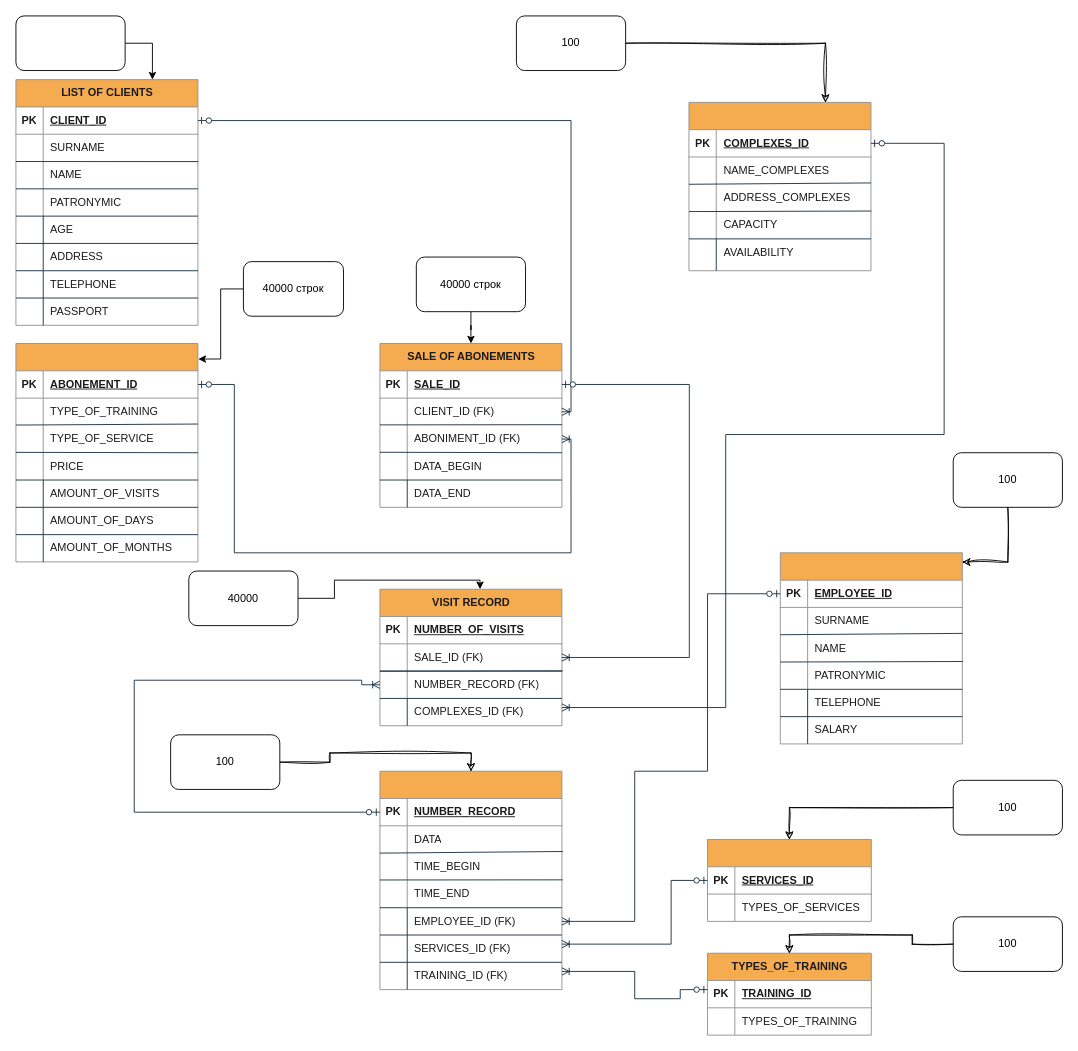
Some shapes in this 1078 by 1051 pixel diagram are drawn without their labels. The shapes that lost their labels are listed below. From the top down, each one's box as (x1, y1, x2, y2) in pixels, then its label:
(15, 15, 125, 71): 10000 строк
(688, 101, 871, 271): INFO OF COMPLEXES
(15, 343, 198, 562): ABONEMENTS
(779, 552, 962, 744): LIST OF EMPLOYEE
(379, 770, 562, 990): TIMETABLE
(707, 839, 871, 921): LIST OF SERVICES
